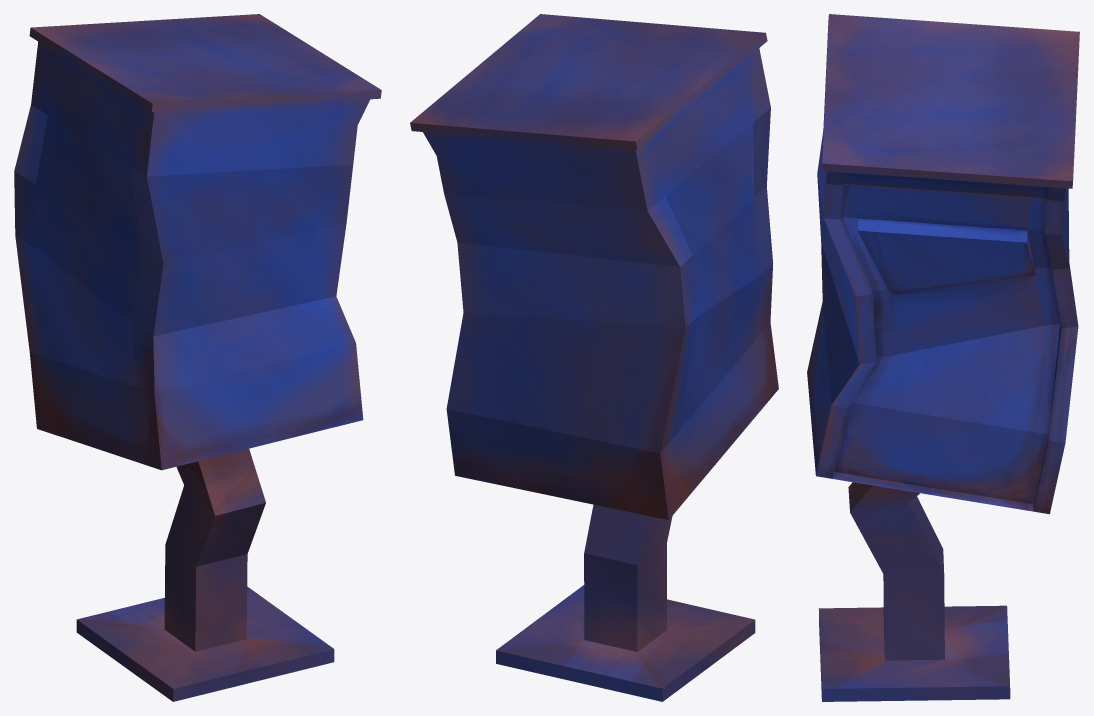
The model's file is MailboxBroken.fbx.
The picture shows the model from 3 angles, left to right: view 1: azimuth 30°, elevation 25°; view 2: azimuth 150°, elevation 25°; view 3: azimuth 270°, elevation 25°; orthographic projection.
Visible parts, largest first — view 1: Cube; view 2: Cube; view 3: Cube.
Boxes of the visible parts, x1=… form: Cube: x1=14, y1=14, x2=381, y2=701; Cube: x1=410, y1=14, x2=778, y2=701; Cube: x1=807, y1=14, x2=1079, y2=701.
Size of the model in its own units: 317 by 704 by 290.
